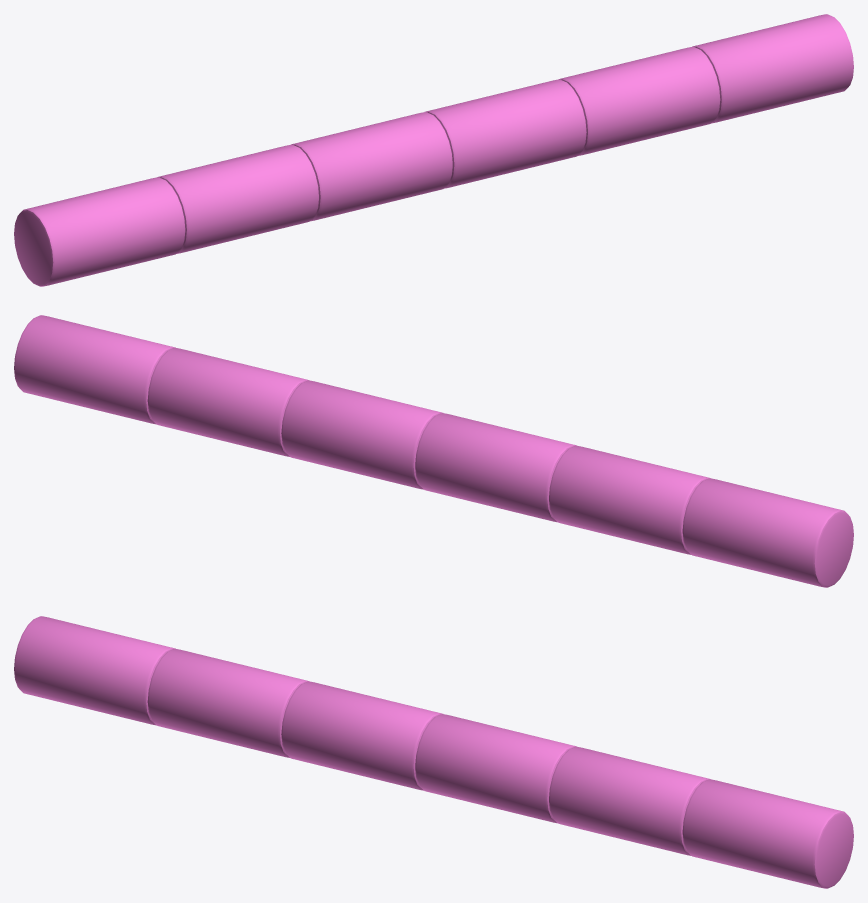
The model's file is SpeedBump.fbx.
3 renders of one model, top to bottom at view 1: azimuth 30°, elevation 25°; view 2: azimuth 150°, elevation 25°; view 3: azimuth 330°, elevation 25°, orthographic.
Visible parts, largest first — view 1: SpeedBump; view 2: SpeedBump; view 3: SpeedBump.
Part boxes in pixels (x1,y1,x2,y2): SpeedBump: (14, 14, 853, 286); SpeedBump: (14, 315, 853, 587); SpeedBump: (14, 616, 853, 888).
Size of the model in its own units: 30 by 2.6 by 2.6.
Materials: 1 (1 with a texture image).
